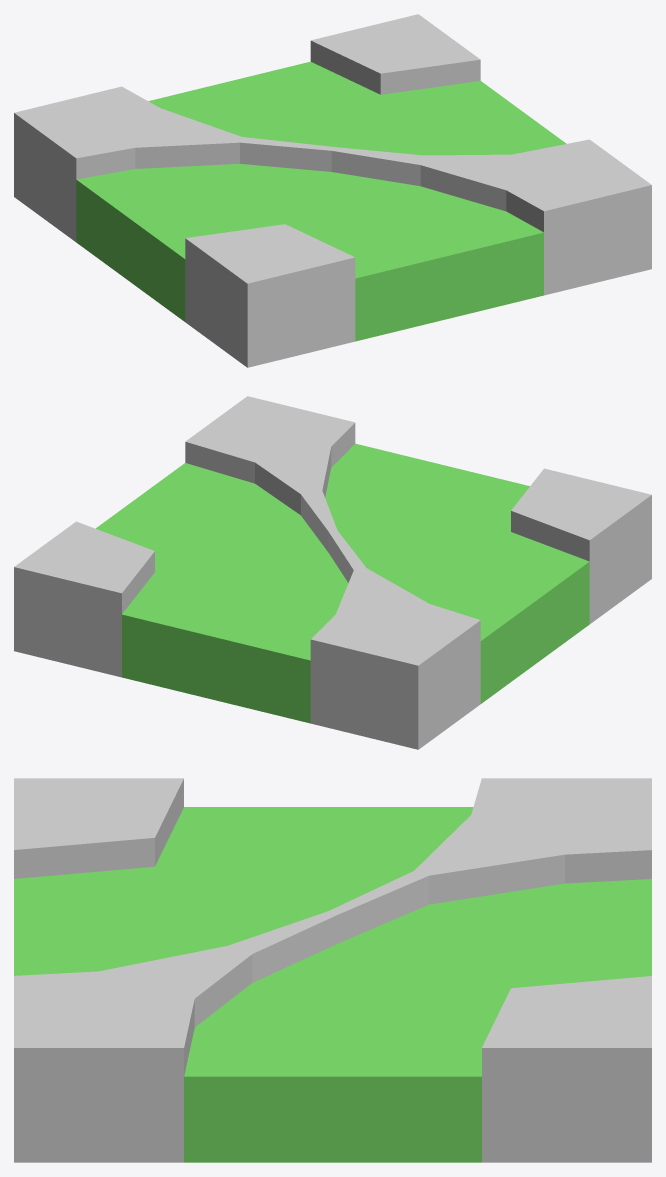
File: RoadGrassXCurve.fbx
The picture shows the model from 3 angles, top to bottom: view 1: azimuth 30°, elevation 25°; view 2: azimuth 150°, elevation 25°; view 3: azimuth 270°, elevation 25°; orthographic projection. The views are drawn at different scales.
Parts seen in each view (by area): view 1: RoadGrassXCurve; view 2: RoadGrassXCurve; view 3: RoadGrassXCurve.
Boxes of the visible parts, left/top/right/bottom form: RoadGrassXCurve: left=14, top=14, right=651, bottom=367; RoadGrassXCurve: left=14, top=396, right=651, bottom=749; RoadGrassXCurve: left=14, top=778, right=651, bottom=1162.
Size of the model in its own units: 200 by 39.76 by 200.
